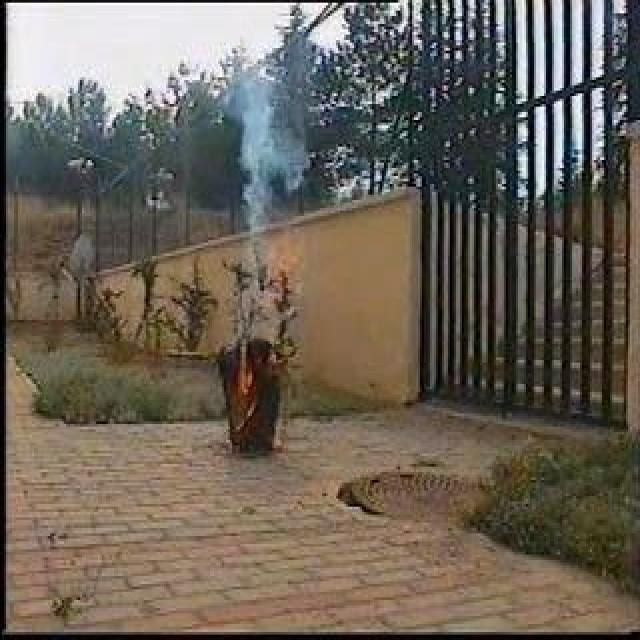fire: (235, 347, 265, 400)
smoke: (238, 58, 286, 235)
